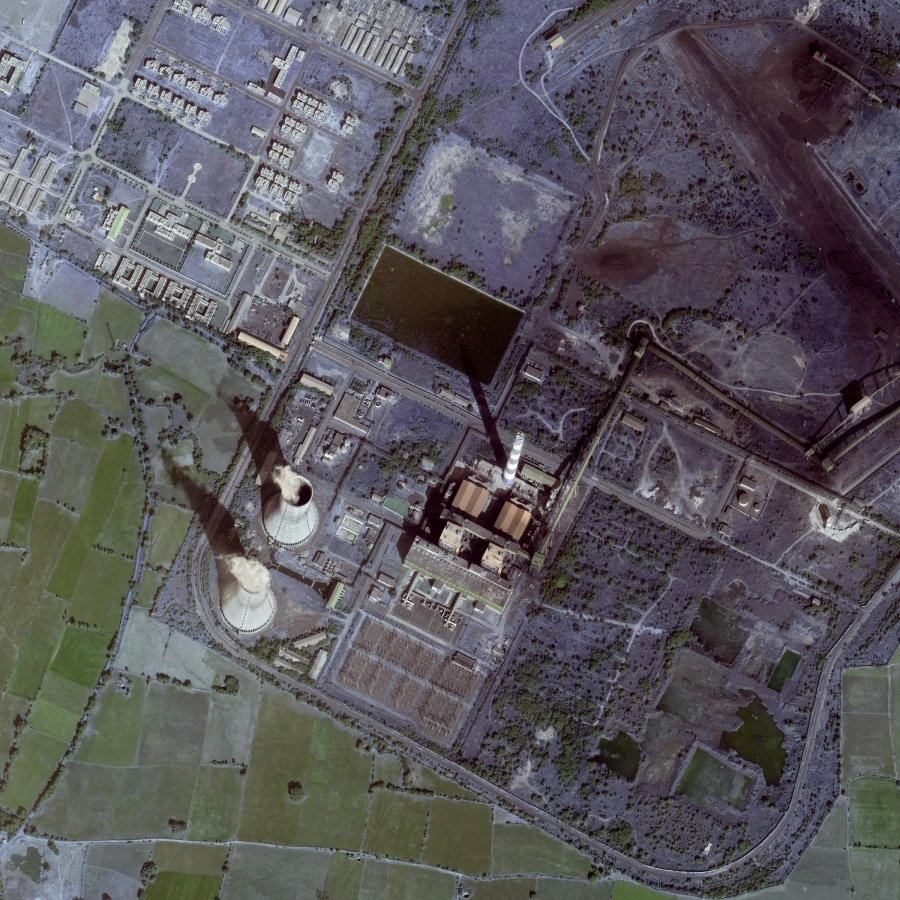PowerPlant: (187, 229, 624, 687)
